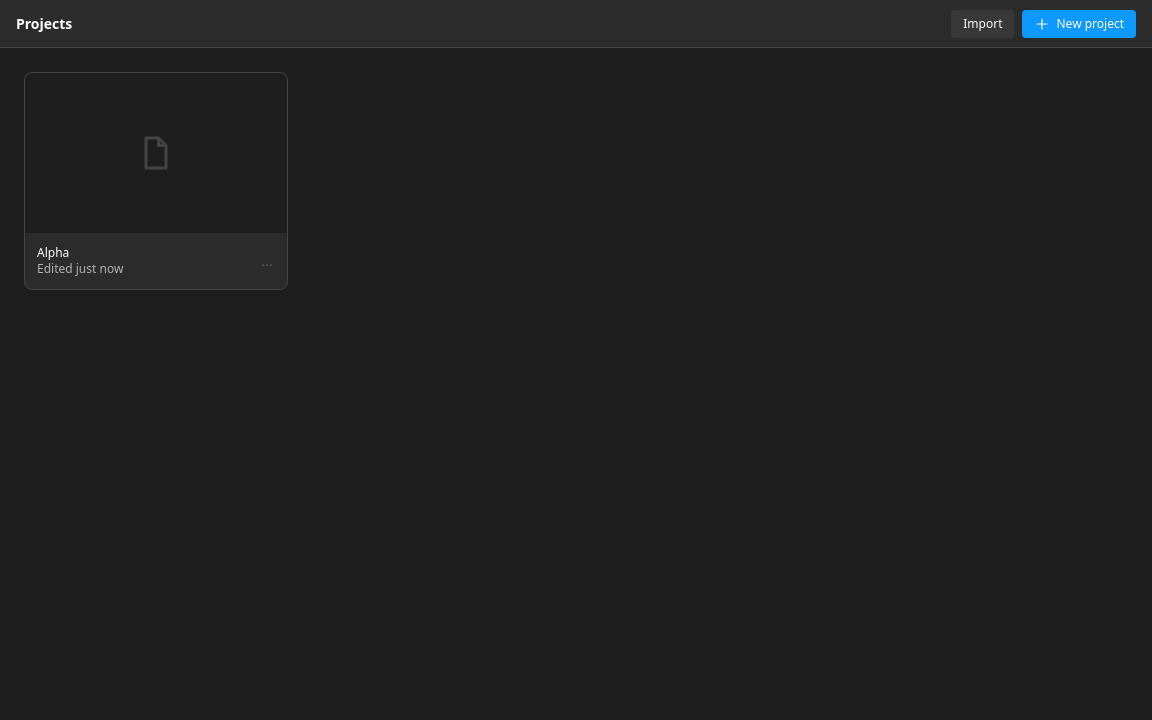
Test: Editor: Section tool draws a page-level section; size presets resize a frame
Click the button with aria-label "Open Alpha". click: (156, 181)
box: [25,73,287,289]
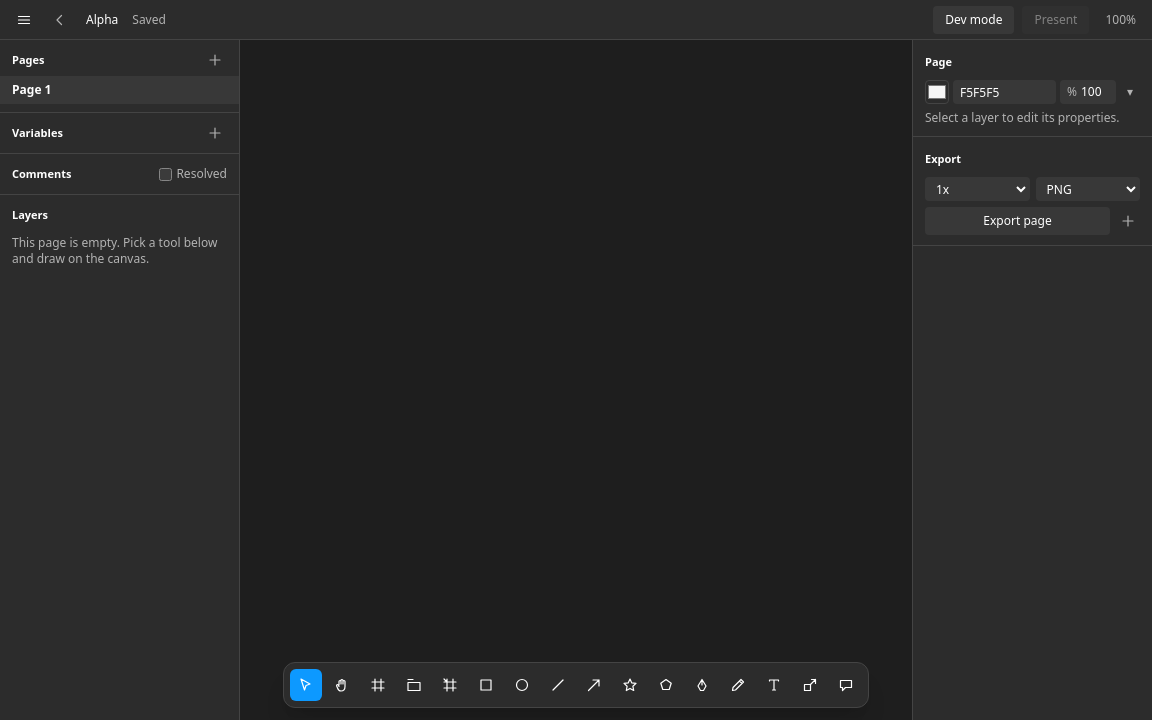
Type keys "f"
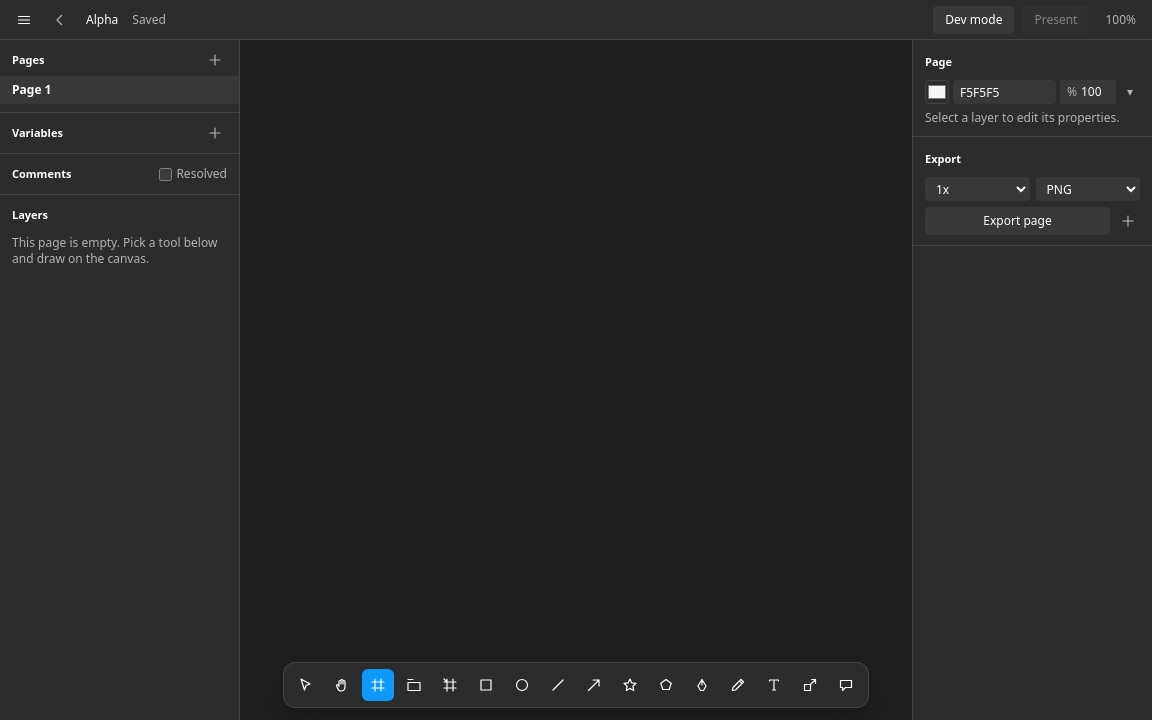
Press the mouse on the drawing named "Canvas" at (576, 380), box [240,40,912,719]
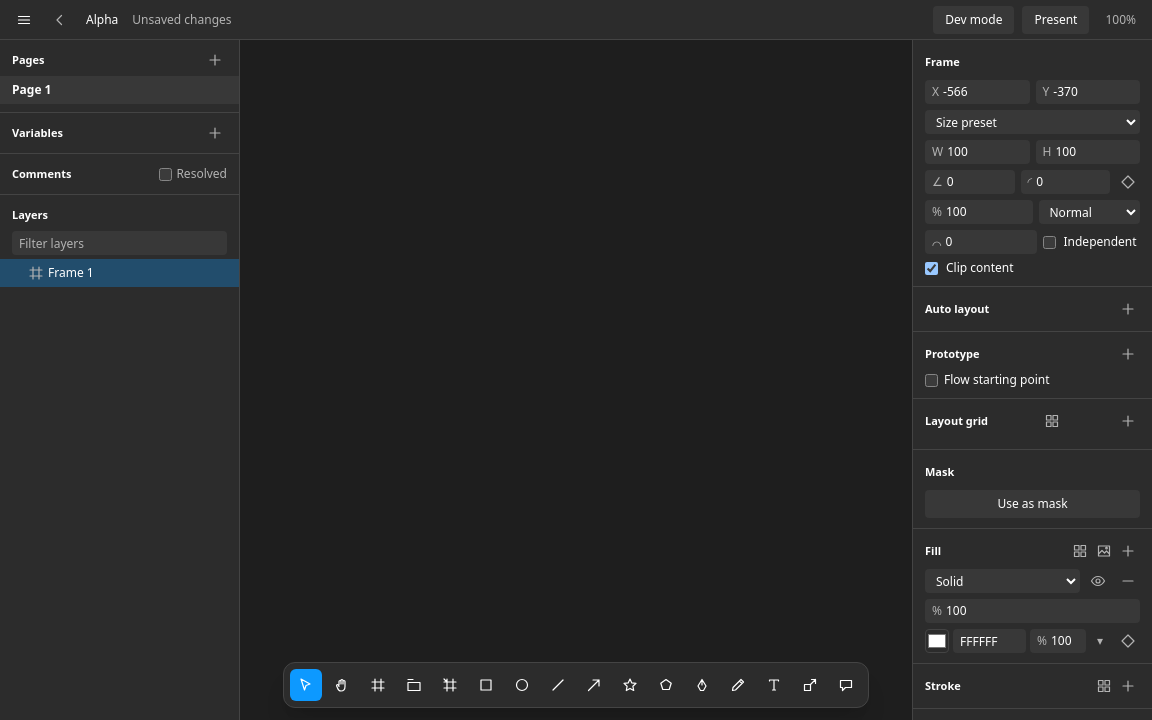
Select "iPhone 15 (393×852)" in the dropdown named "Size preset". click: (1032, 122)
box: [925,110,1140,134]
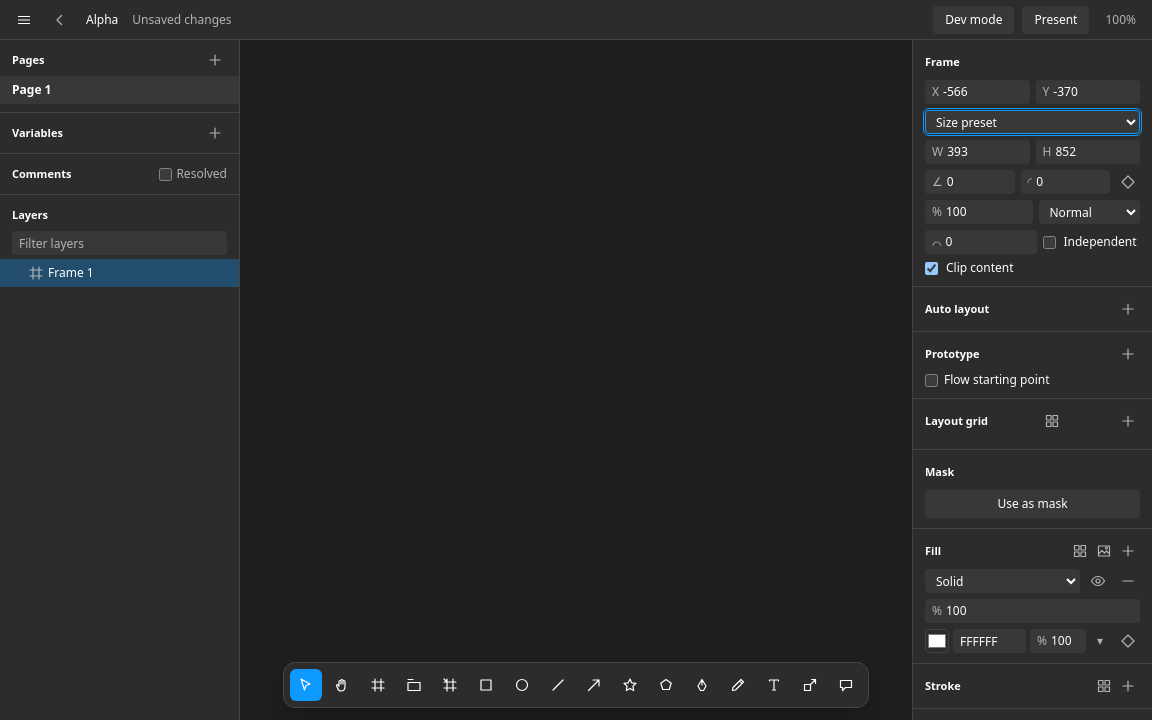
Check: the field named "Width" holds "393", box [947,144,1022,160]
Check: the field named "Height" holds "852", box [1055,144,1133,160]
Click the button named "Section". click: (414, 685)
box: [398,669,430,701]
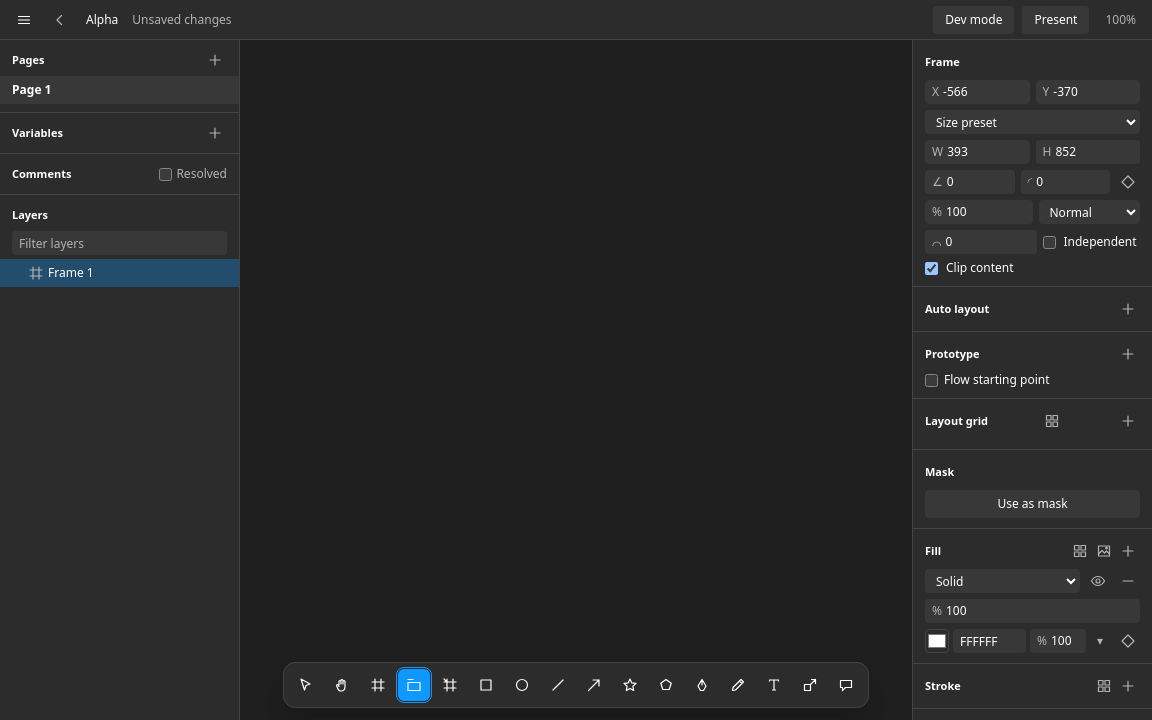
Press the mouse on the drawing named "Canvas" at (576, 380), box [240,40,912,719]
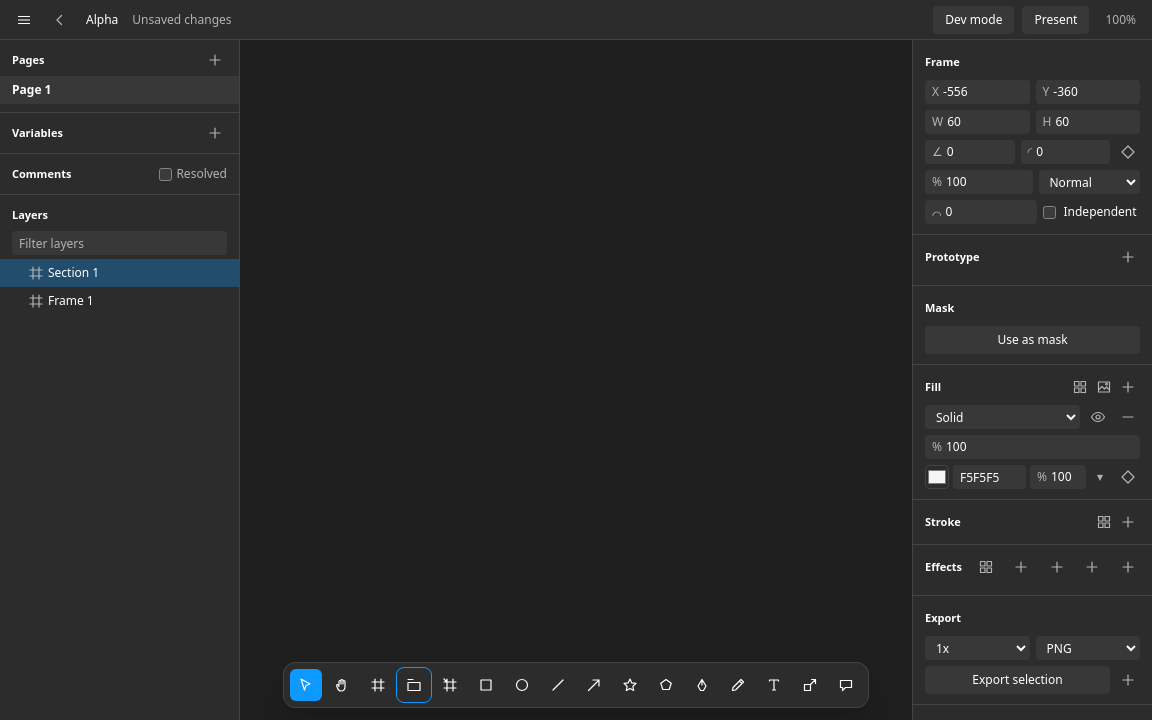
Check: the field labelled "Size preset" is not shown
Check: the list item "Section 1" is shown, box [0,259,239,287]
Check: the text "Clip content" is gone
